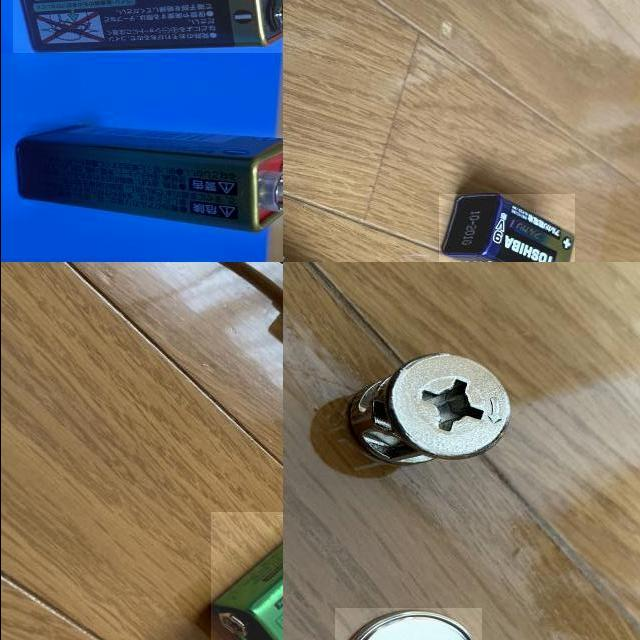9V: (14, 123, 282, 233), (12, 0, 282, 53), (438, 194, 574, 262), (210, 512, 282, 640)
